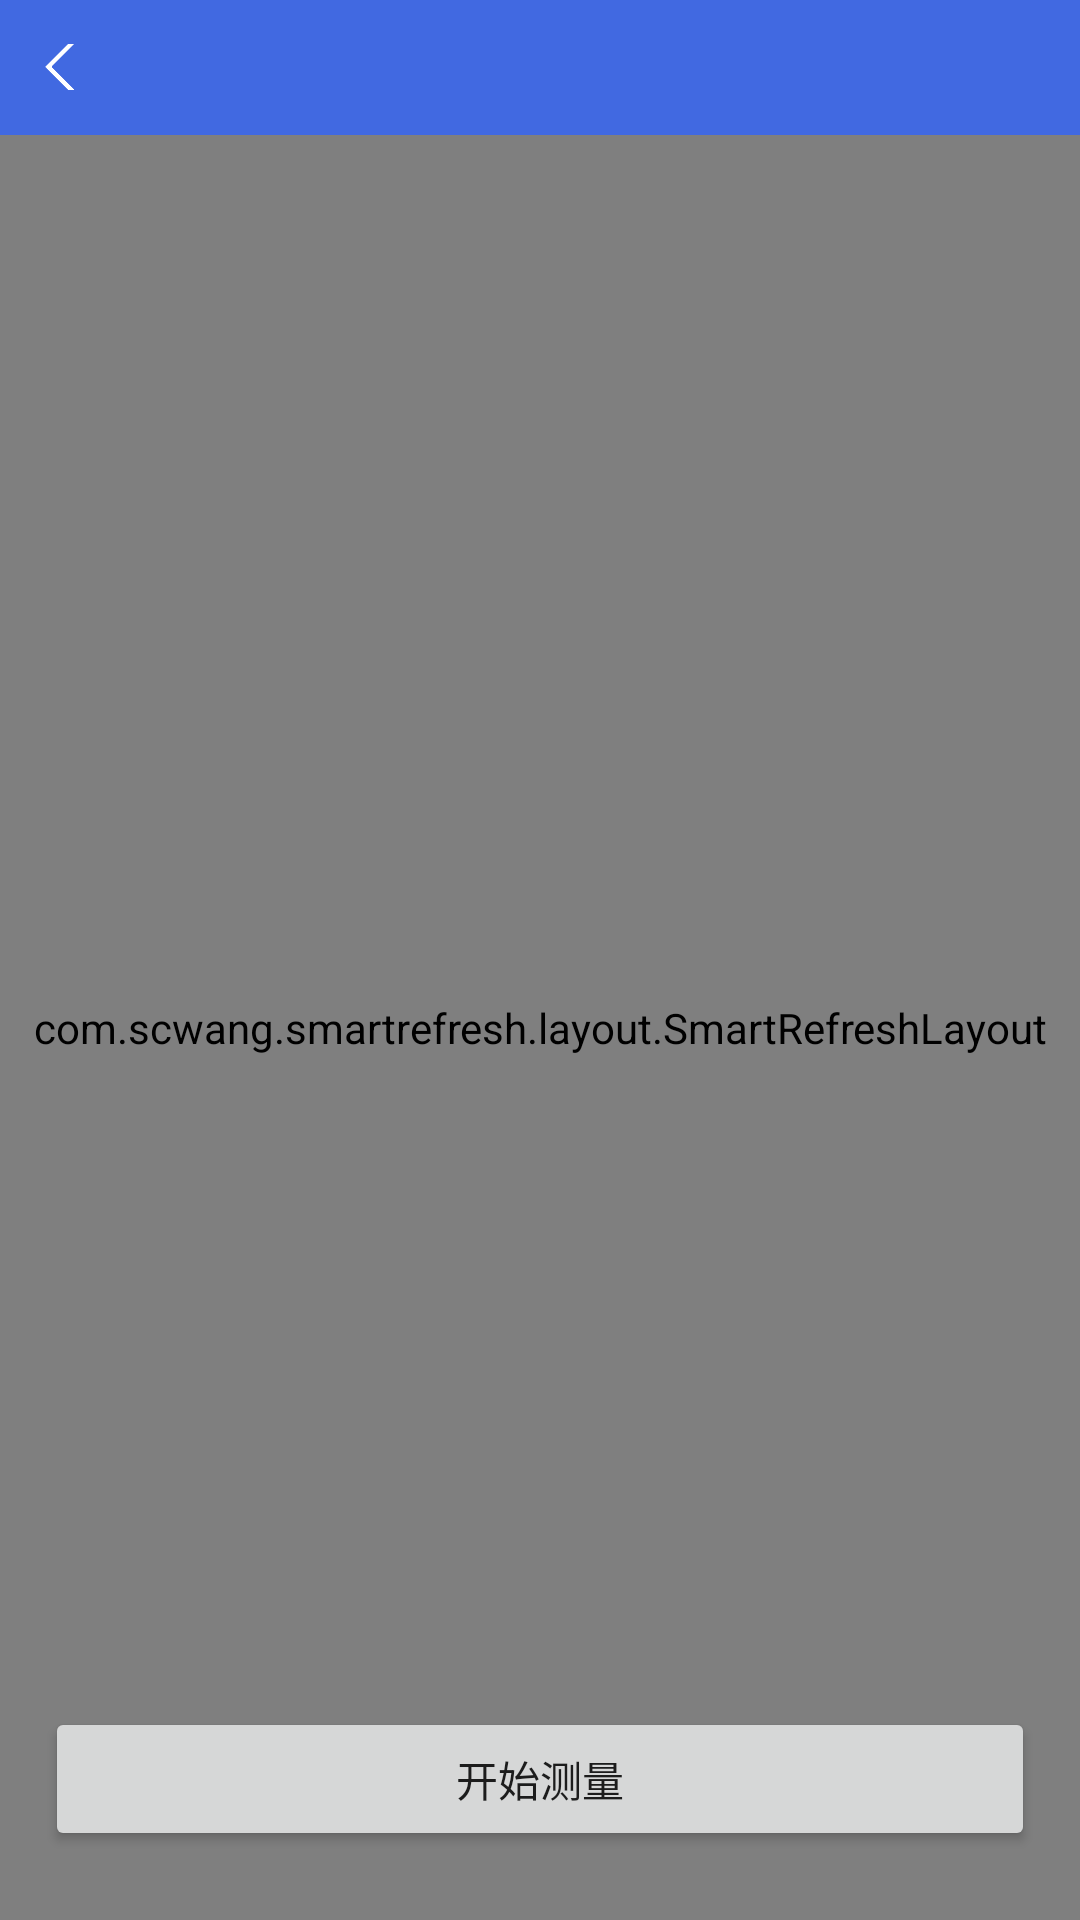

Point at icon controls on the screen. Image size 1080px×1920px, points as (x=x, y=y).
title back: (x=59, y=67)
